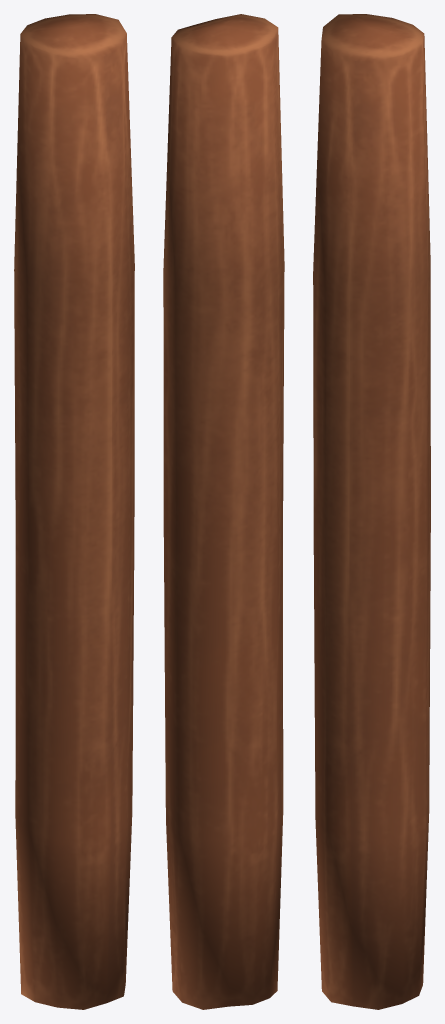
The model's file is wood2.fbx.
The picture shows the model from 3 angles, left to right: view 1: azimuth 30°, elevation 25°; view 2: azimuth 210°, elevation 25°; view 3: azimuth 330°, elevation 25°; orthographic projection.
Parts seen in each view (by area): view 1: part2_low; view 2: part2_low; view 3: part2_low.
Boxes of the visible parts, bbox=[...] form: part2_low: bbox=[14, 14, 134, 1009]; part2_low: bbox=[163, 14, 284, 1009]; part2_low: bbox=[313, 14, 430, 1009].
Bounding box in the file's own units: 214 × 212 × 1939.
